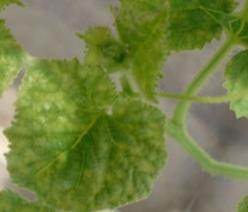Tomato leaf mosaic virus: (0, 45, 184, 212)
